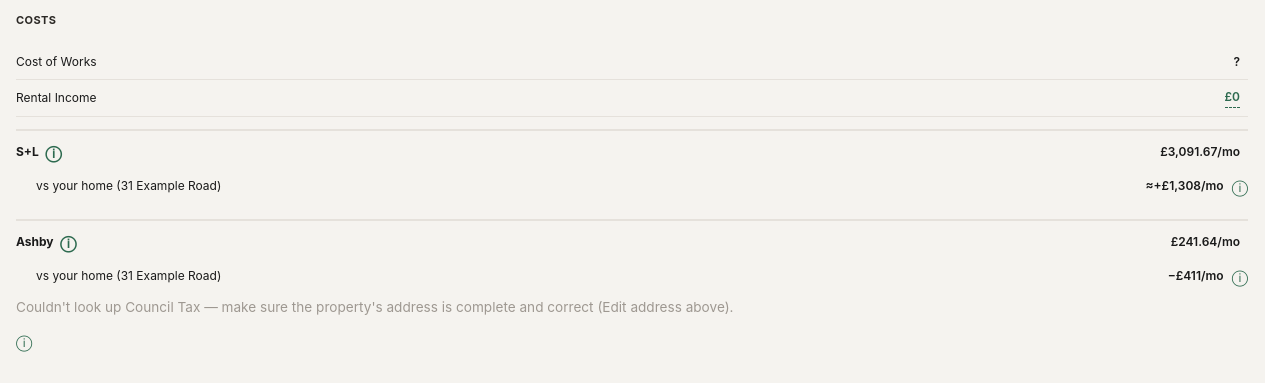
Test case: CostsSection — vs-row provenance widget (defect 1) › shows a vs-row ⓘ whenever the delta exists; the tree loads on click (P8)
Expected: the number of elements with class "costs-row--vs" is 2, [36, 178, 1224, 192]; [36, 268, 1224, 282]
Click the button "ⓘ" next to "≈+£1,308/mo": [1240, 186] box [1232, 178, 1248, 194]
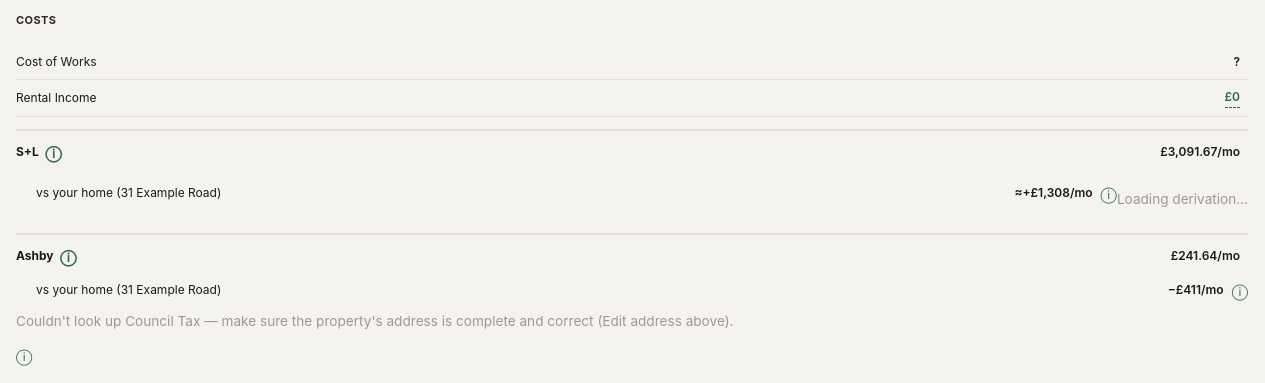
Expected: the element showing "Loading derivation…" is shown, [1117, 184, 1248, 209]
